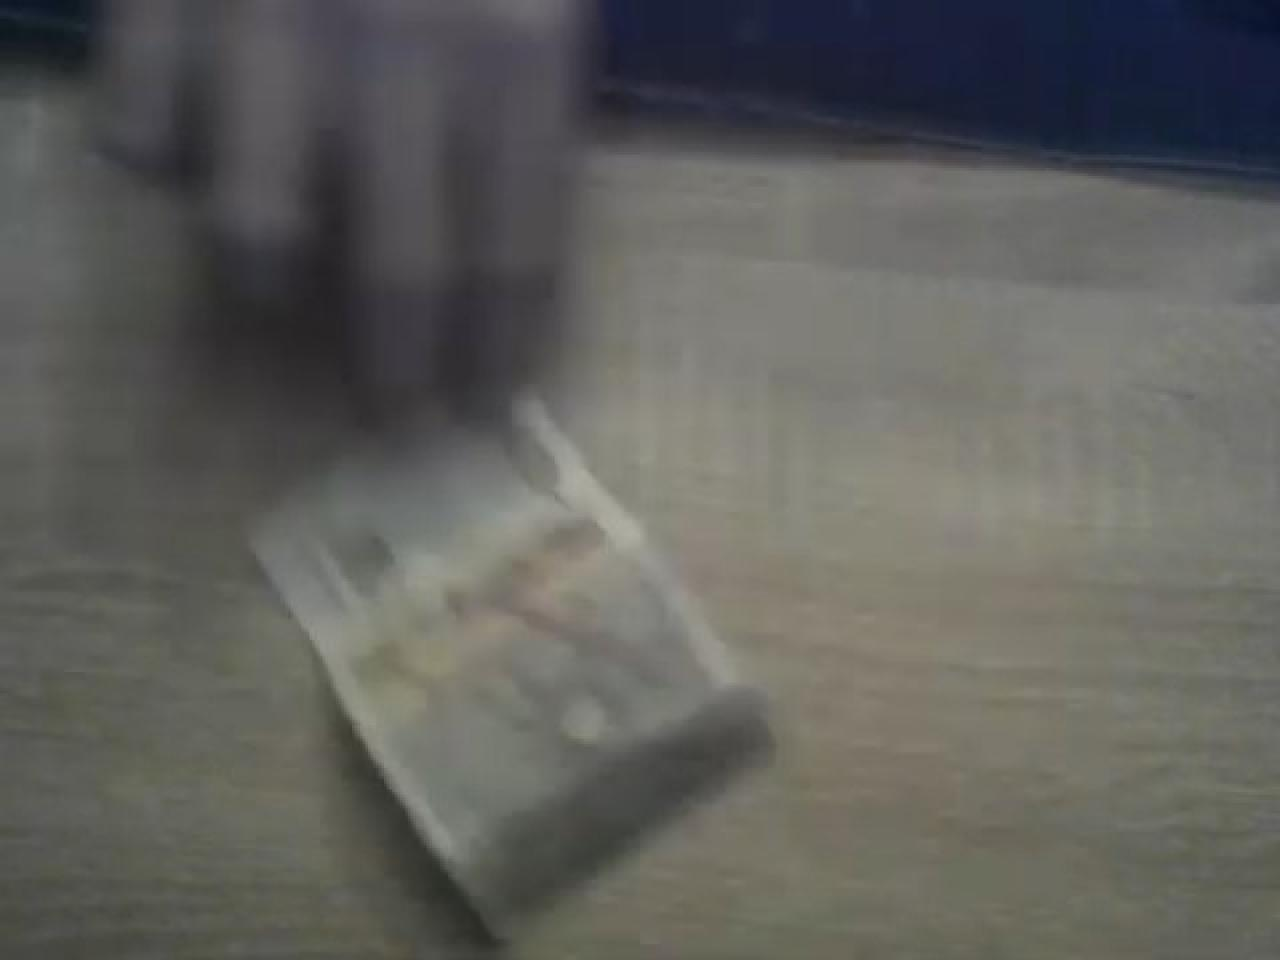10leva: (240, 392, 776, 960)
